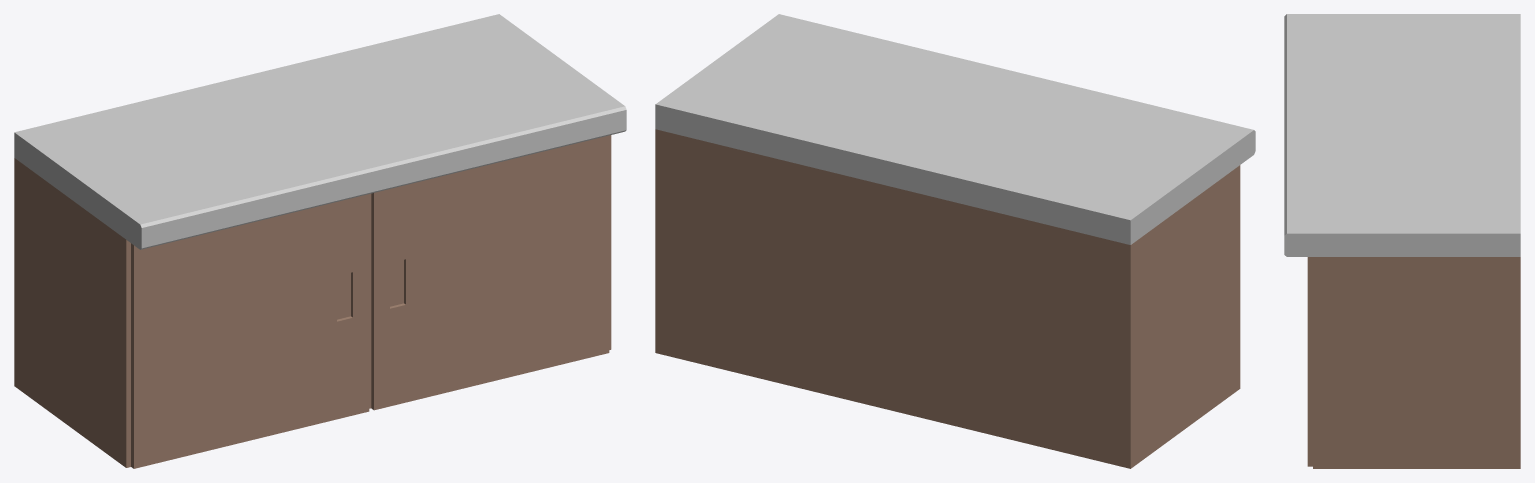
The model's file is counter1.fbx.
3 views of the same model, side by side, from view 1: azimuth 30°, elevation 25°; view 2: azimuth 150°, elevation 25°; view 3: azimuth 270°, elevation 25° (orthographic). The views are drawn at different scales.
Parts seen in each view (by area): view 1: Cube; view 2: Cube; view 3: Cube.
Part boxes in pixels (left/top/right/bottom): Cube: left=14, top=14, right=626, bottom=468; Cube: left=655, top=14, right=1255, bottom=468; Cube: left=1284, top=14, right=1520, bottom=468.
Bounding box in the file's own units: 200 × 100 × 91.
